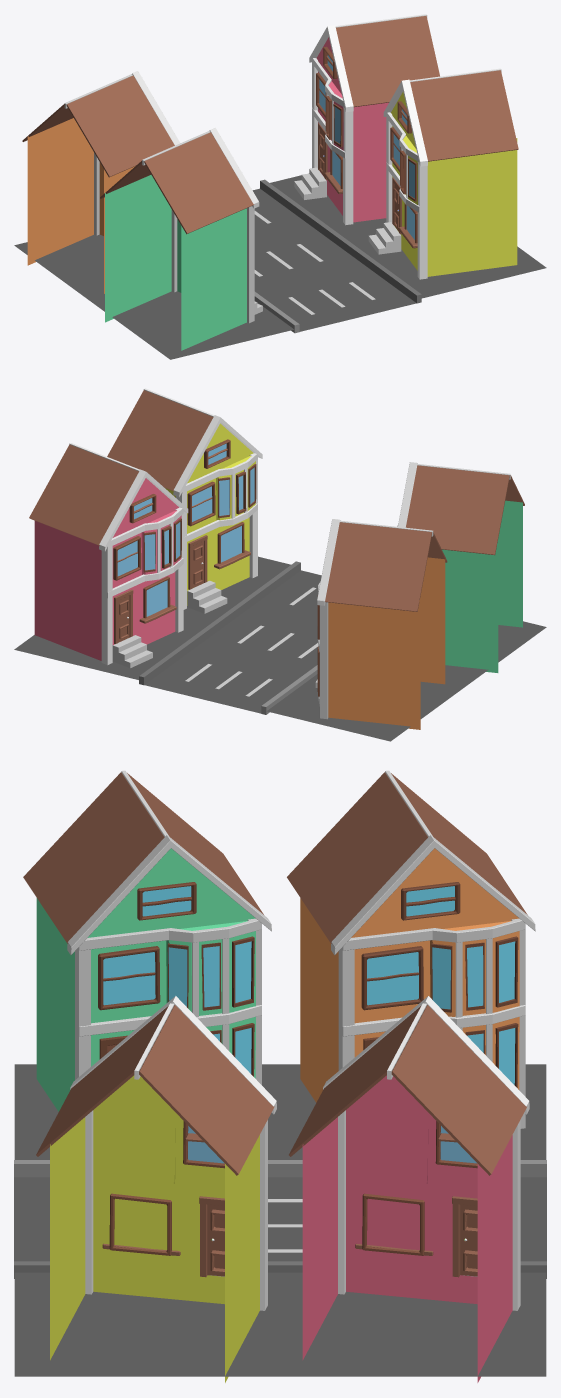
Rendered from RoadTown_1.fbx.
The picture shows the model from 3 angles, top to bottom: view 1: azimuth 30°, elevation 25°; view 2: azimuth 150°, elevation 25°; view 3: azimuth 270°, elevation 25°; orthographic projection. The views are drawn at different scales.
Parts seen in each view (by area): view 1: Walls.002, Road, Walls.004, Walls.003, Roof.004, Plane.059, Roof.002, Roof.003, Roof.001, Plane.002, Walls.001, Beams.004 (+13 smaller); view 2: Walls.003, Road, Walls.001, Walls.002, Roof.003, Roof.002, Roof.001, Roof.004, Plane.059, Beams.001, Plane.002, Beams.004 (+16 smaller); view 3: Plane.002, Walls.001, Walls.004, Walls.002, Walls.003, Roof.004, Roof.001, Roof.002, Roof.003, Beams.003, Beams.002, Plane.059 (+17 smaller).
Part boxes in pixels (box(x1,y1,x2,y2)): Walls.002: box(105, 175, 246, 350); Road: box(252, 188, 416, 331); Walls.004: box(391, 91, 517, 276); Walls.003: box(27, 118, 135, 293); Roof.004: box(410, 70, 518, 161); Plane.059: box(14, 234, 293, 359); Roof.002: box(100, 132, 254, 234); Roof.003: box(22, 75, 174, 177); Roof.001: box(336, 15, 439, 107); Plane.002: box(270, 175, 546, 298); Walls.001: box(316, 37, 388, 222); Beams.004: box(383, 68, 501, 279); Walls.003: box(328, 557, 445, 729); Road: box(144, 570, 321, 713); Walls.001: box(34, 478, 181, 660); Walls.002: box(442, 500, 522, 672); Roof.003: box(325, 522, 447, 611); Roof.002: box(406, 465, 524, 555); Roof.001: box(29, 444, 138, 545); Roof.004: box(107, 390, 213, 490); Plane.059: box(267, 621, 546, 741); Beams.001: box(69, 443, 188, 665); Plane.002: box(14, 556, 290, 679); Beams.004: box(143, 388, 262, 609); Plane.002: box(14, 1272, 546, 1376); Walls.001: box(302, 1075, 512, 1382); Walls.004: box(50, 1075, 259, 1382); Walls.002: box(36, 848, 255, 1111); Walls.003: box(300, 848, 519, 1102); Roof.004: box(36, 1005, 274, 1175); Roof.001: box(289, 1005, 526, 1175); Roof.002: box(23, 772, 263, 943); Roof.003: box(287, 772, 527, 943); Beams.003: box(331, 770, 535, 1128); Beams.002: box(67, 770, 271, 1084); Plane.059: box(14, 1064, 546, 1159).
Size of the model in its own units: 3963 by 1768 by 2782.
2 materials, 1 textured.
